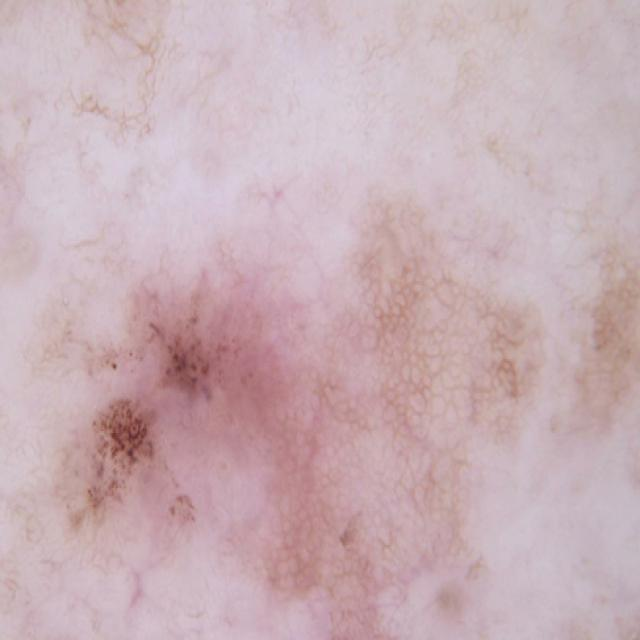Carcinoma: (142, 241, 283, 385), (75, 383, 175, 567)
